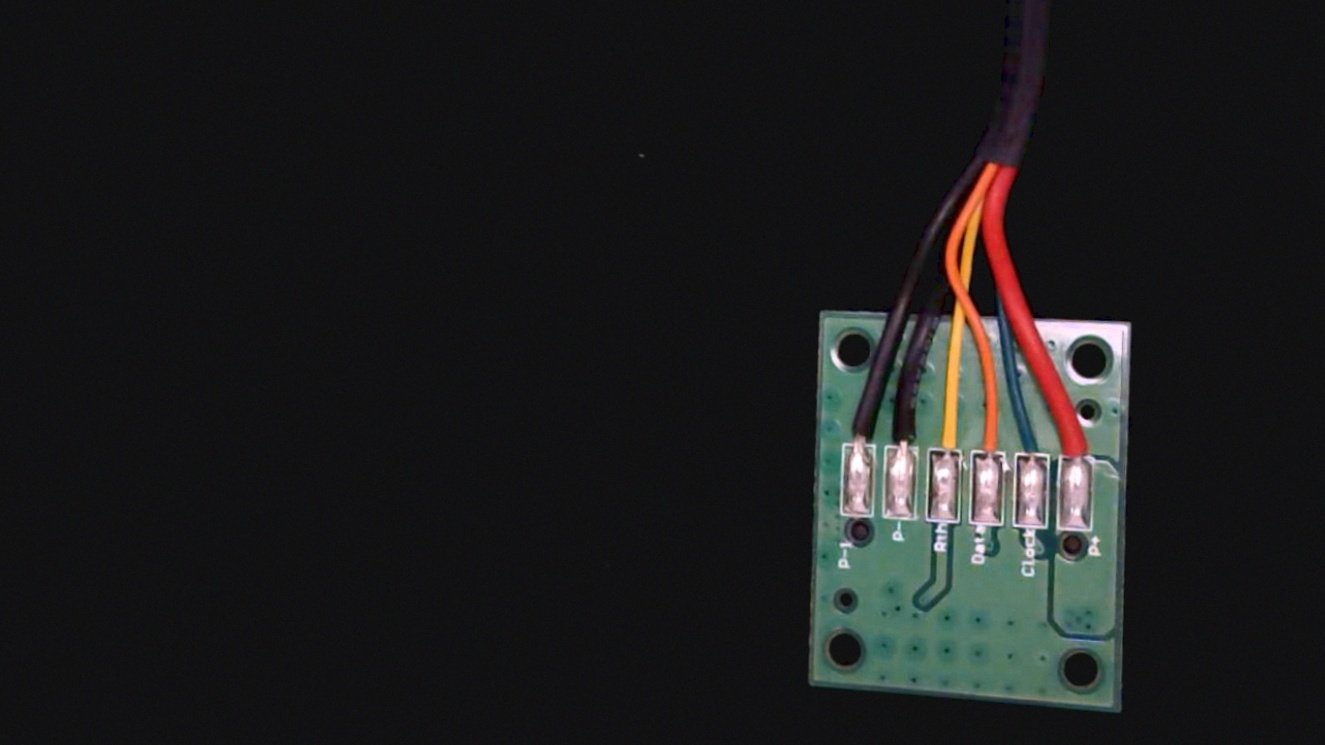Black: (881, 385, 924, 472)
Black1: (836, 390, 878, 469)
Green: (1011, 398, 1054, 481)
Orange: (969, 392, 1010, 477)
Red: (1056, 400, 1100, 483)
Yellow: (924, 386, 967, 474)
